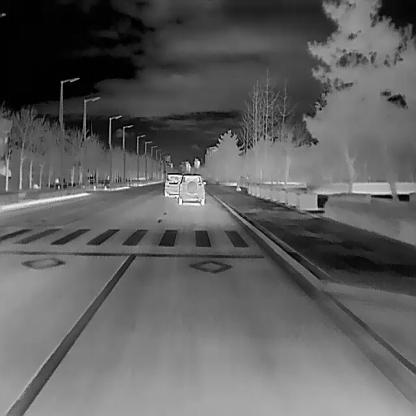car: (178, 174, 206, 205), (164, 172, 183, 198)
crosswalk: (0, 218, 270, 258)
